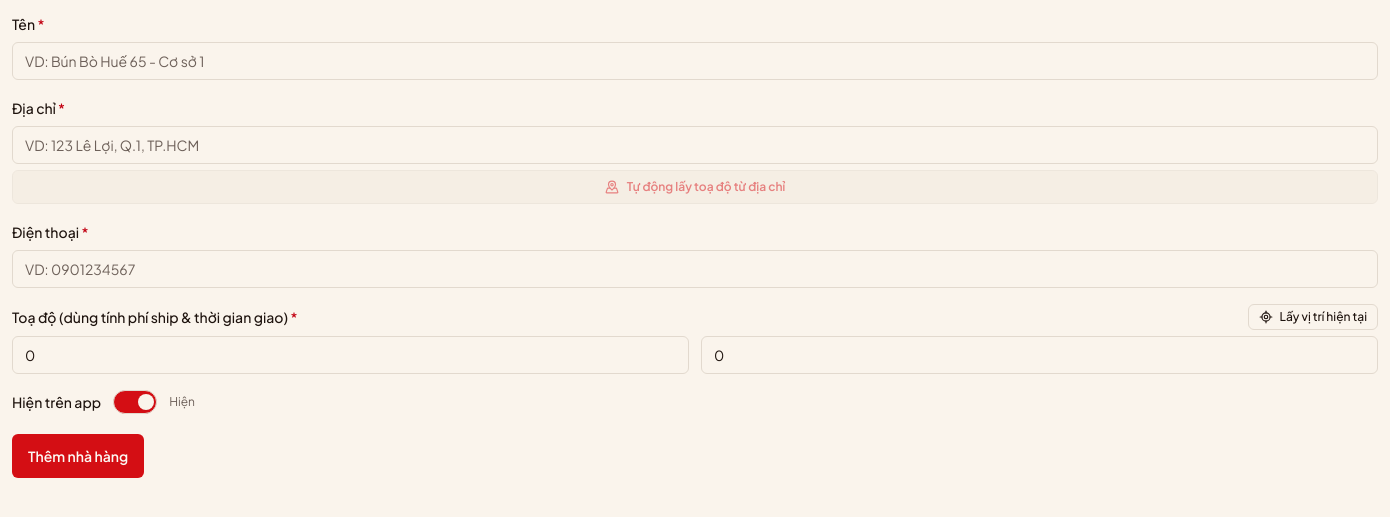
Test case: RestaurantForm — toạ độ (lat/lng) › shows an error when the browser has no geolocation support
Click the button with test id "restaurant.form.locate_button". click: (1313, 317)
box: [1248,304,1378,330]
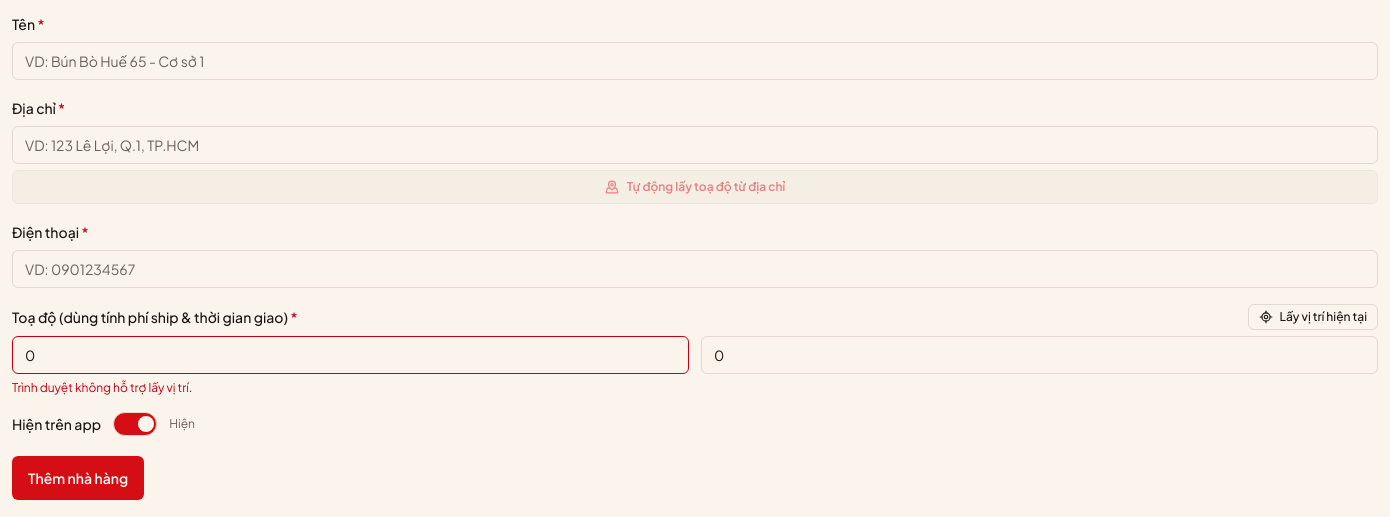
Check: the text "Trình duyệt không hỗ trợ lấy vị trí." is shown, box [12,380,192,395]
